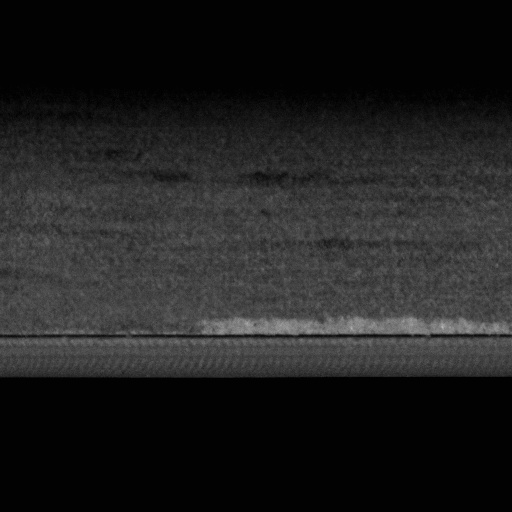jiaofeng: (0, 331, 511, 346)
